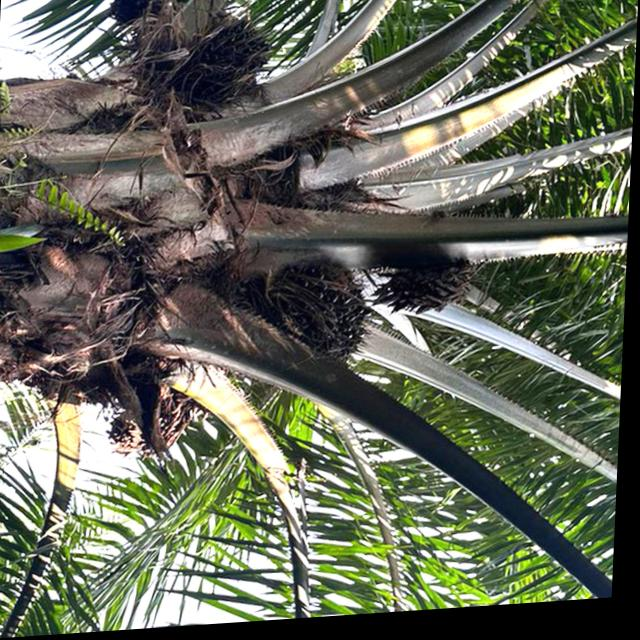ripe: (272, 254, 390, 383)
